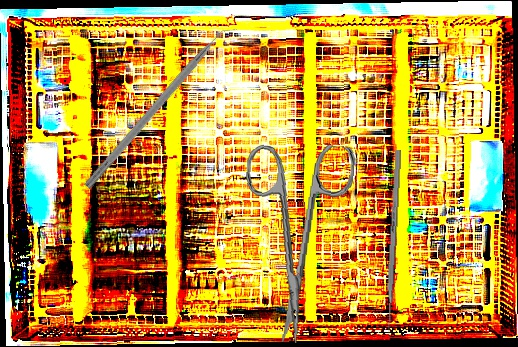Chopper: (83, 19, 242, 198)
Iris Scissors: (231, 138, 357, 347)
Pusher: (384, 149, 402, 342)
